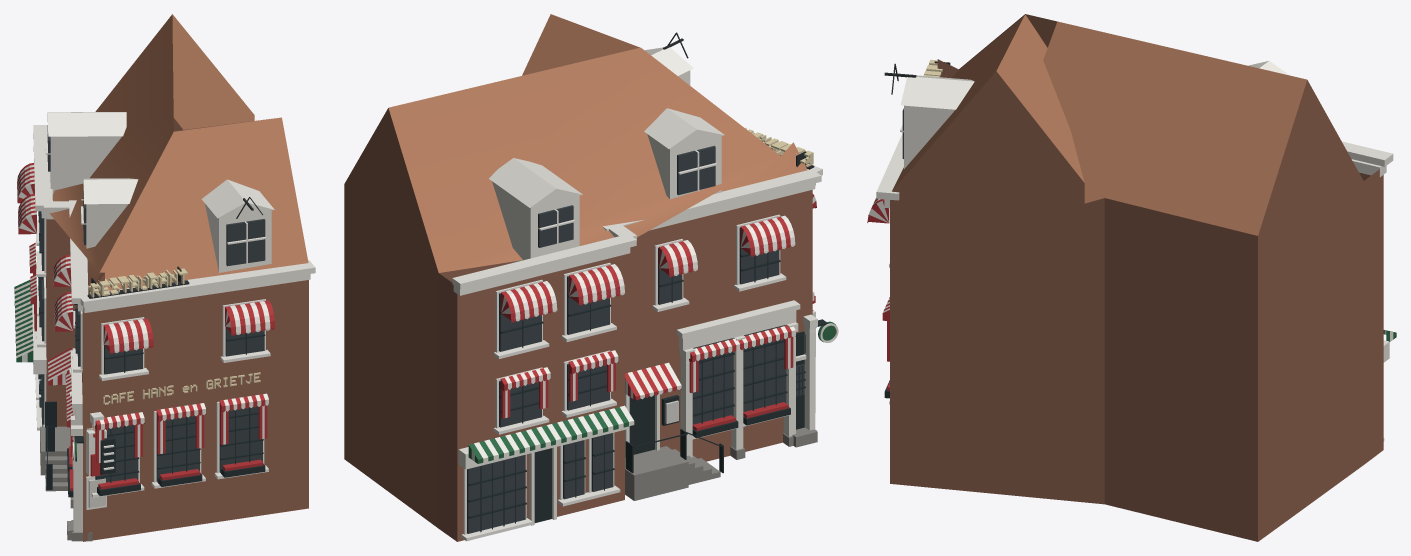
The model's file is hans-en-grietje-spiegelgracht.glb.
3 views of the same model, side by side, from view 1: azimuth 30°, elevation 25°; view 2: azimuth 150°, elevation 25°; view 3: azimuth 270°, elevation 25° (orthographic). The views are drawn at different scales.
Parts seen in each view (by area): view 1: hans-en-grietje-spiegelgracht; view 2: hans-en-grietje-spiegelgracht; view 3: hans-en-grietje-spiegelgracht.
Boxes of the visible parts, x1,y1,x2,y2 form: hans-en-grietje-spiegelgracht: [14, 14, 315, 541]; hans-en-grietje-spiegelgracht: [344, 14, 838, 541]; hans-en-grietje-spiegelgracht: [867, 14, 1396, 541].
Size of the model in its own units: 11.93 by 12.69 by 14.27.
